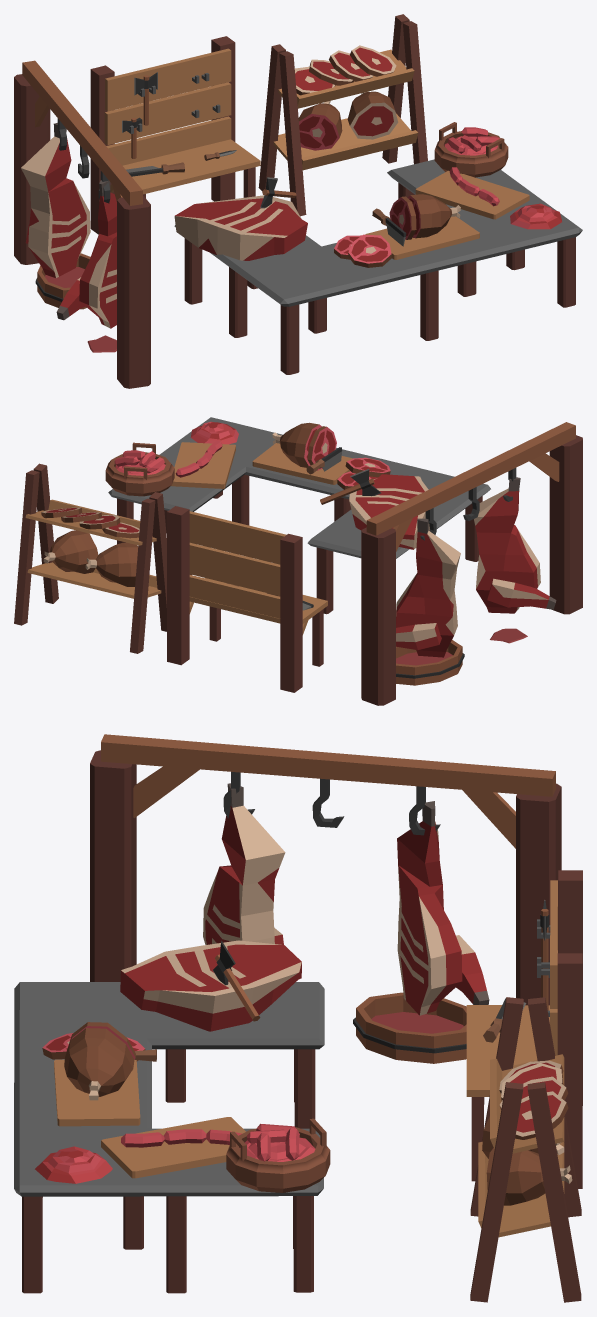
The model's file is Slaughter_house_3.fbx.
The picture shows the model from 3 angles, top to bottom: view 1: azimuth 30°, elevation 25°; view 2: azimuth 150°, elevation 25°; view 3: azimuth 270°, elevation 25°; orthographic projection. The views are drawn at different scales.
Parts seen in each view (by area): view 1: stone_table.001, bench_with_tools.007, pillars_for_cow_carcass.004, shelving.001, meat_white.002, cow_carcass_right.002, cow_carcass_right.003, cow_carcass_left.001, desk, busket, desk.001, meat_rose.008 (+6 smaller); view 2: pillars_for_cow_carcass.004, bench_with_tools.007, stone_table.001, shelving.001, cow_carcass_left.001, cow_carcass_right.002, meat_white.002, cow_carcass_right.003, barrel_with_leather.004, desk, busket, desk.001 (+8 smaller); view 3: stone_table.001, pillars_for_cow_carcass.004, shelving.001, bench_with_tools.007, cow_carcass_right.003, cow_carcass_right.002, cow_carcass_left.001, barrel_with_leather.004, meat_white.002, busket, desk, ham_rose.001 (+5 smaller).
Part boxes in pixels (bbox=[...]): stone_table.001: bbox=[174, 159, 582, 374]; bench_with_tools.007: bbox=[90, 36, 260, 234]; pillars_for_cow_carcass.004: bbox=[14, 60, 150, 388]; shelving.001: bbox=[258, 14, 427, 216]; meat_white.002: bbox=[294, 45, 398, 150]; cow_carcass_right.002: bbox=[21, 123, 90, 277]; cow_carcass_right.003: bbox=[174, 195, 307, 260]; cow_carcass_left.001: bbox=[56, 180, 116, 328]; desk: bbox=[415, 170, 529, 219]; busket: bbox=[434, 122, 508, 177]; desk.001: bbox=[365, 216, 479, 259]; meat_rose.008: bbox=[334, 234, 391, 267]; pillars_for_cow_carcass.004: bbox=[361, 422, 582, 705]; bench_with_tools.007: bbox=[167, 506, 327, 692]; stone_table.001: bbox=[108, 417, 490, 614]; shelving.001: bbox=[14, 463, 166, 653]; cow_carcass_left.001: bbox=[474, 477, 556, 613]; cow_carcass_right.002: bbox=[396, 518, 460, 657]; meat_white.002: bbox=[41, 507, 139, 586]; cow_carcass_right.003: bbox=[349, 474, 429, 549]; barrel_with_leather.004: bbox=[396, 640, 464, 685]; desk: bbox=[171, 442, 235, 488]; busket: bbox=[105, 442, 174, 496]; desk.001: bbox=[252, 443, 352, 484]; stone_table.001: bbox=[14, 982, 324, 1293]; pillars_for_cow_carcass.004: bbox=[90, 734, 561, 1005]; shelving.001: bbox=[470, 997, 581, 1302]; bench_with_tools.007: bbox=[466, 870, 582, 1188]; cow_carcass_right.003: bbox=[120, 940, 301, 1031]; cow_carcass_right.002: bbox=[397, 801, 489, 1015]; cow_carcass_left.001: bbox=[203, 783, 285, 944]; barrel_with_leather.004: bbox=[353, 992, 466, 1063]; meat_white.002: bbox=[482, 1060, 572, 1205]; busket: bbox=[226, 1118, 330, 1192]; desk: bbox=[101, 1117, 245, 1178]; ham_rose.001: bbox=[64, 1028, 134, 1100].
Size of the model in its own units: 299 by 120 by 227.
